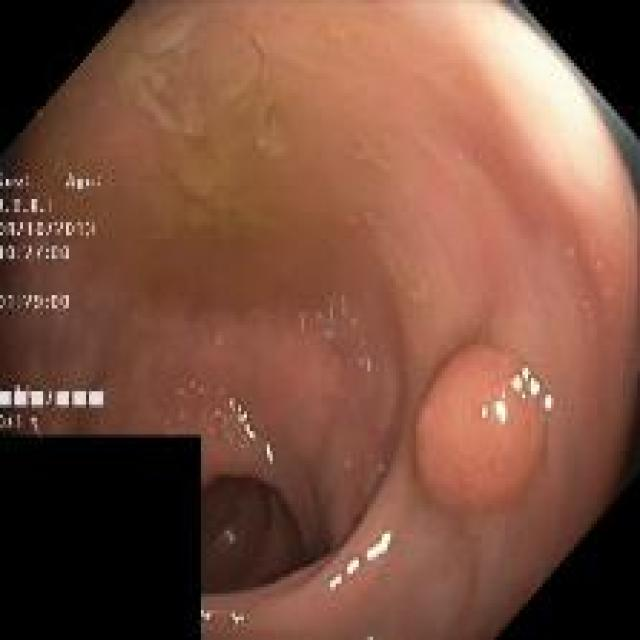Polyps: (418, 347, 549, 516)
